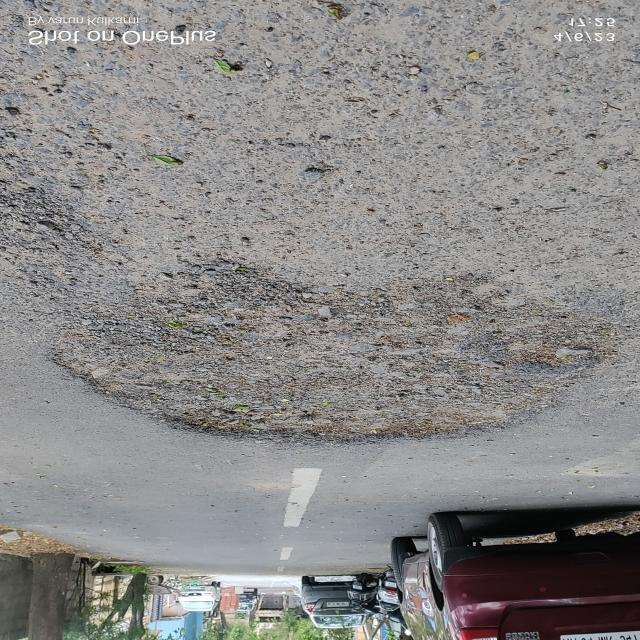potholes: (41, 280, 637, 449)
